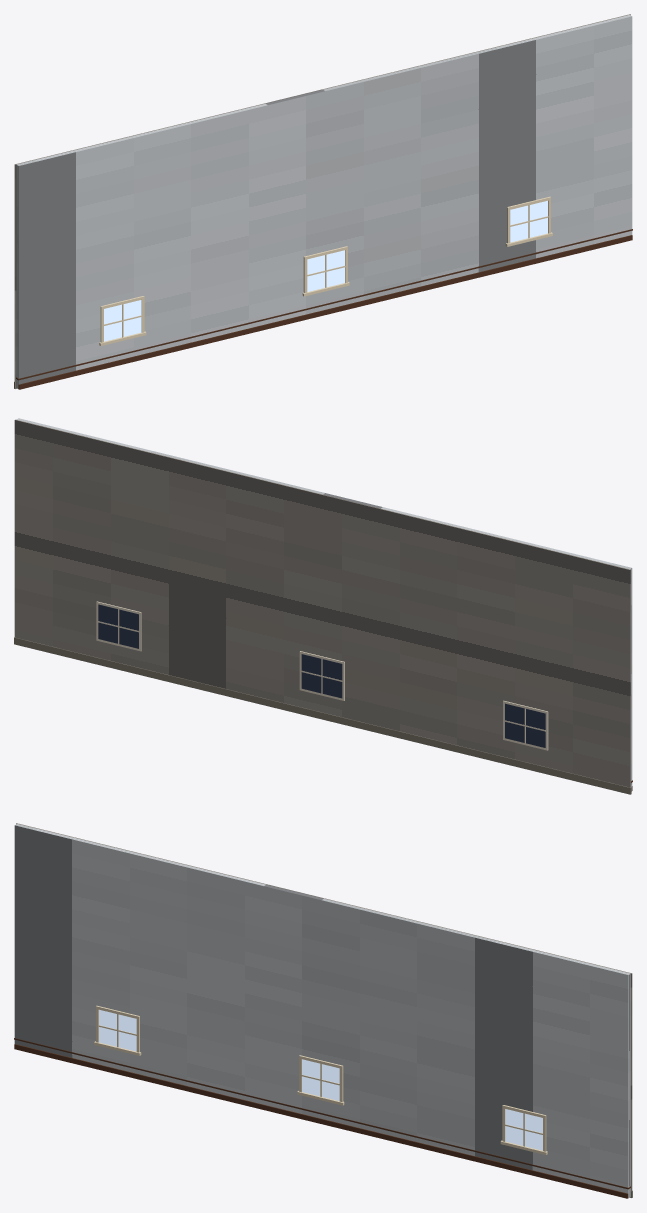
Rendered from high_rear.glb.
The picture shows the model from 3 angles, top to bottom: view 1: azimuth 30°, elevation 25°; view 2: azimuth 150°, elevation 25°; view 3: azimuth 330°, elevation 25°; orthographic projection.
Parts seen in each view (by area): view 1: Box1, Box2, Box38, Box3, Box39, Box13, Box24, Box35; view 2: Box3, Box4, Box1, Box17, Box28, Box6; view 3: Box1, Box2, Box38, Box3, Box39, Box35, Box24, Box13.
Boxes of the visible parts, x1,y1,x2,y2 form: Box1: [16, 15, 632, 388]; Box2: [18, 235, 632, 389]; Box38: [16, 234, 629, 388]; Box3: [14, 14, 630, 381]; Box39: [16, 229, 632, 380]; Box13: [104, 300, 141, 341]; Box24: [307, 250, 344, 291]; Box35: [510, 200, 547, 242]; Box3: [14, 419, 630, 787]; Box4: [14, 637, 631, 794]; Box1: [16, 418, 632, 791]; Box17: [301, 654, 342, 698]; Box28: [98, 604, 138, 648]; Box6: [505, 703, 545, 747]; Box1: [14, 824, 630, 1197]; Box2: [14, 1044, 628, 1198]; Box38: [16, 1042, 630, 1197]; Box3: [16, 823, 632, 1190]; Box39: [14, 1038, 630, 1189]; Box35: [505, 1109, 542, 1150]; Box24: [302, 1059, 339, 1100]; Box13: [99, 1009, 136, 1051].
Bounding box in the file's own units: 24.27 × 8.44 × 0.338.
8 materials, 2 textured.
